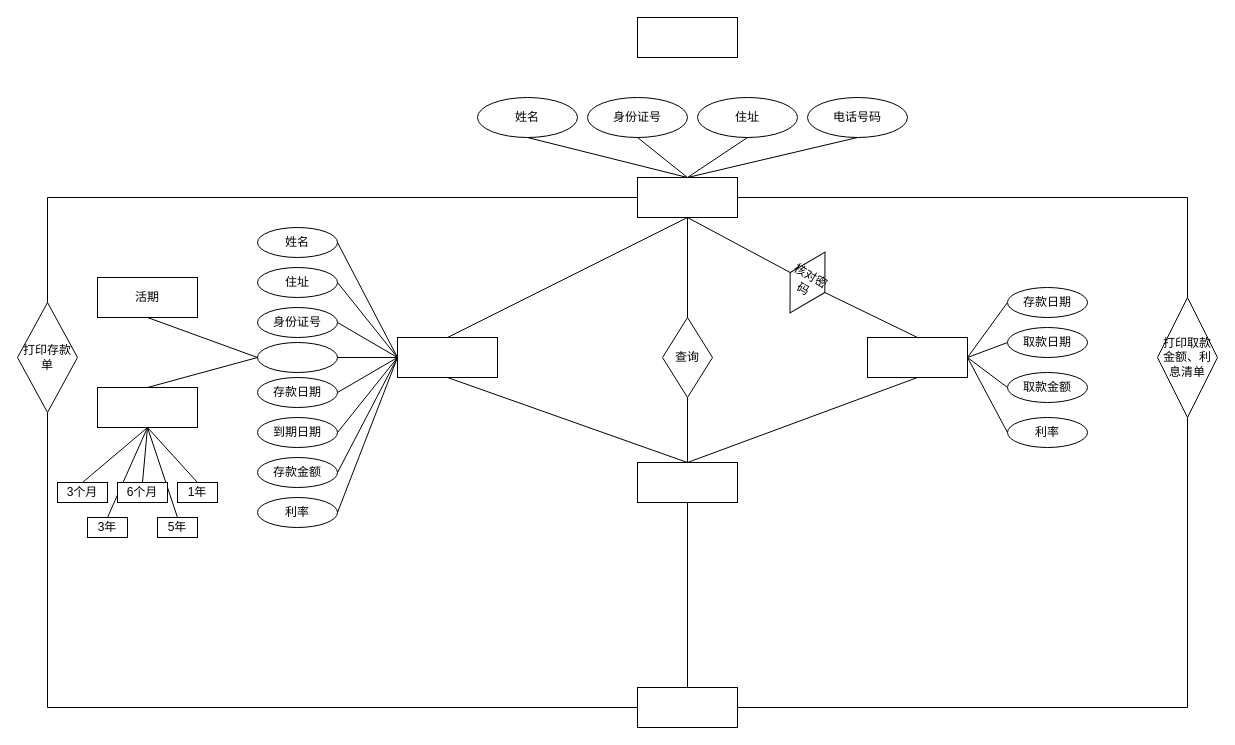
Some shapes in this 1235 by 745 pixel diagram are drawn without their labels. Here are the shapes that lost their labels. From the top down, the box of each, then its label:
(636, 16, 738, 58): 软工233 张林 2330110543
(636, 176, 738, 218): 储户
(256, 342, 338, 372): 存款类型
(396, 336, 498, 378): 存款单
(866, 336, 968, 378): 取款单
(96, 386, 198, 428): 定期
(636, 462, 738, 502): 业务员
(636, 686, 738, 728): 银行
